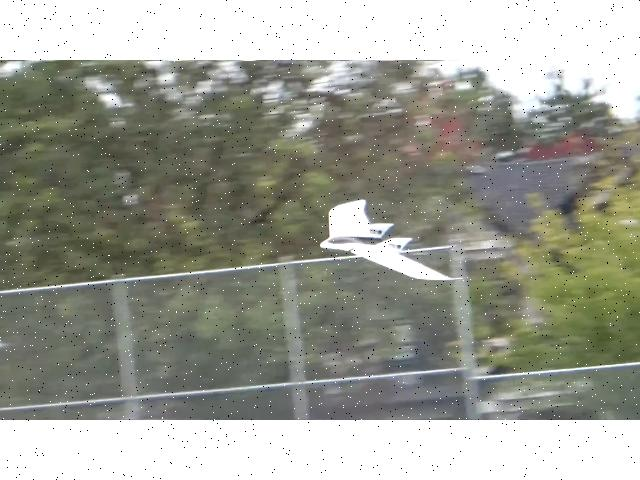Anti-Drone: (322, 200, 462, 280)
